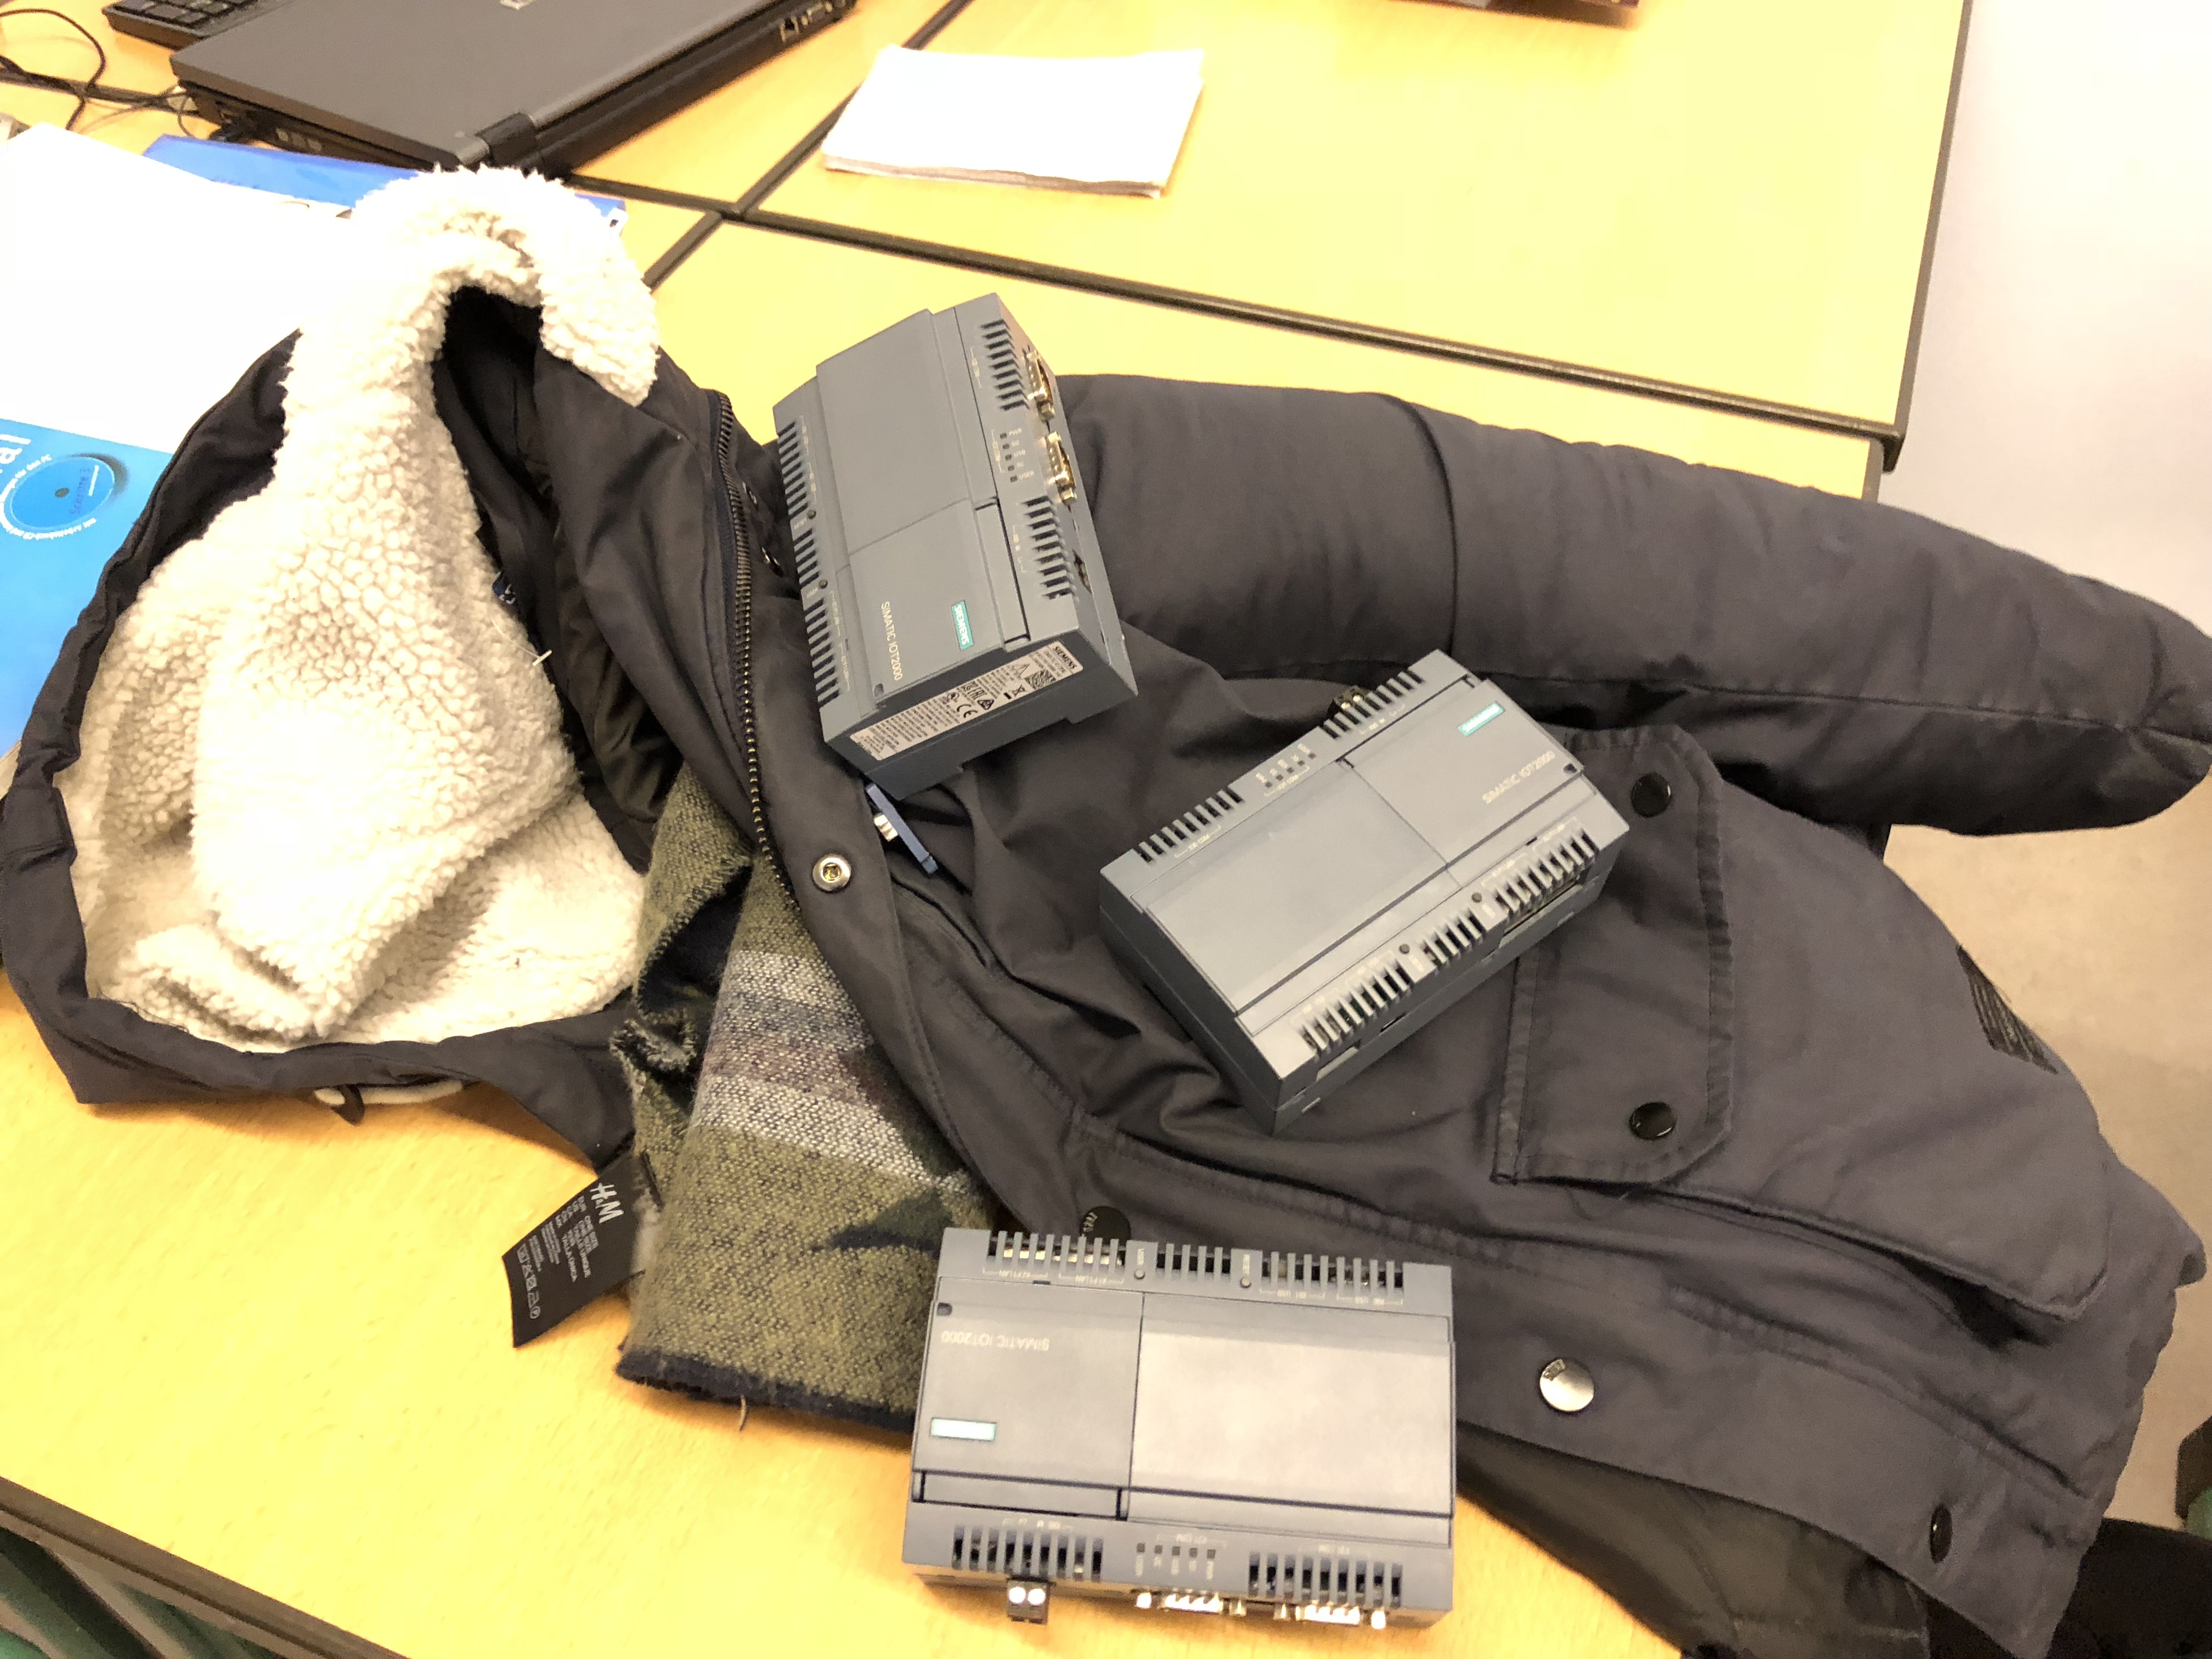device: (1099, 648, 1629, 1138), (900, 1227, 1456, 1631), (772, 293, 1139, 802)
